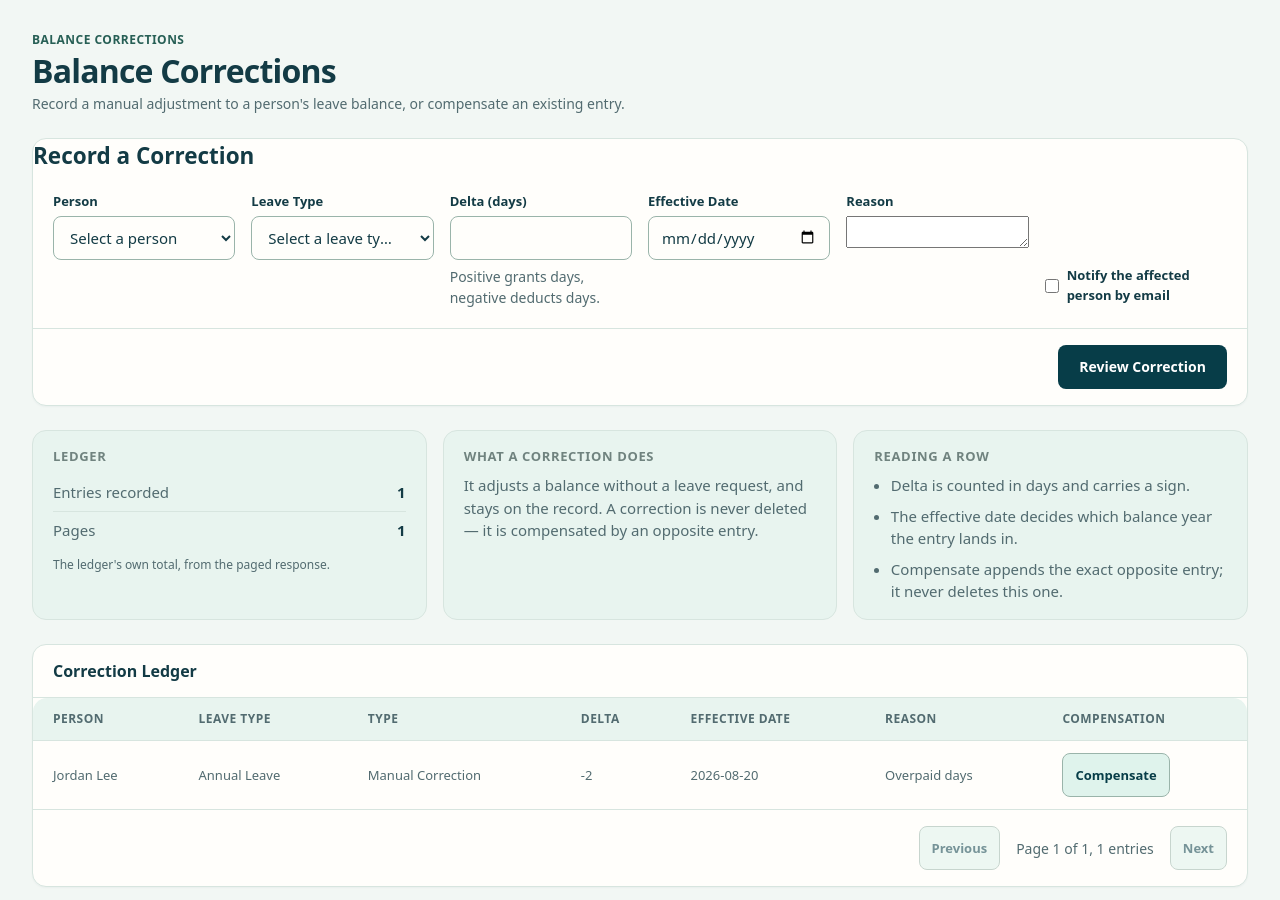
CorrectionsPage › shows the capability banner when compensation is capability-denied
Click the button with test id "correction-compensate-42" at (1116, 775), box [1062,753,1170,797]
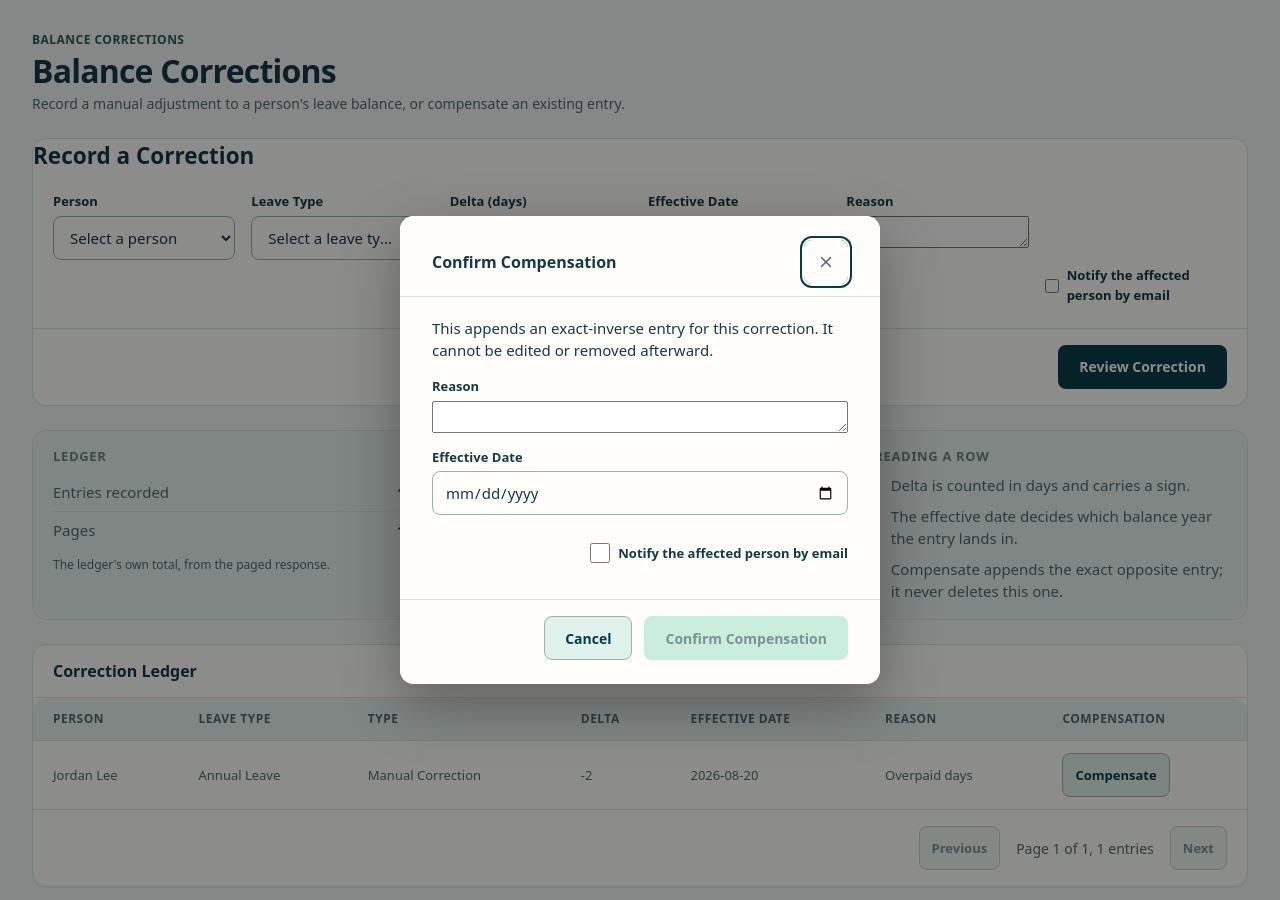
Type "Reversal" into the text box labelled "Reason" at (640, 416), box [432,400,848,432]
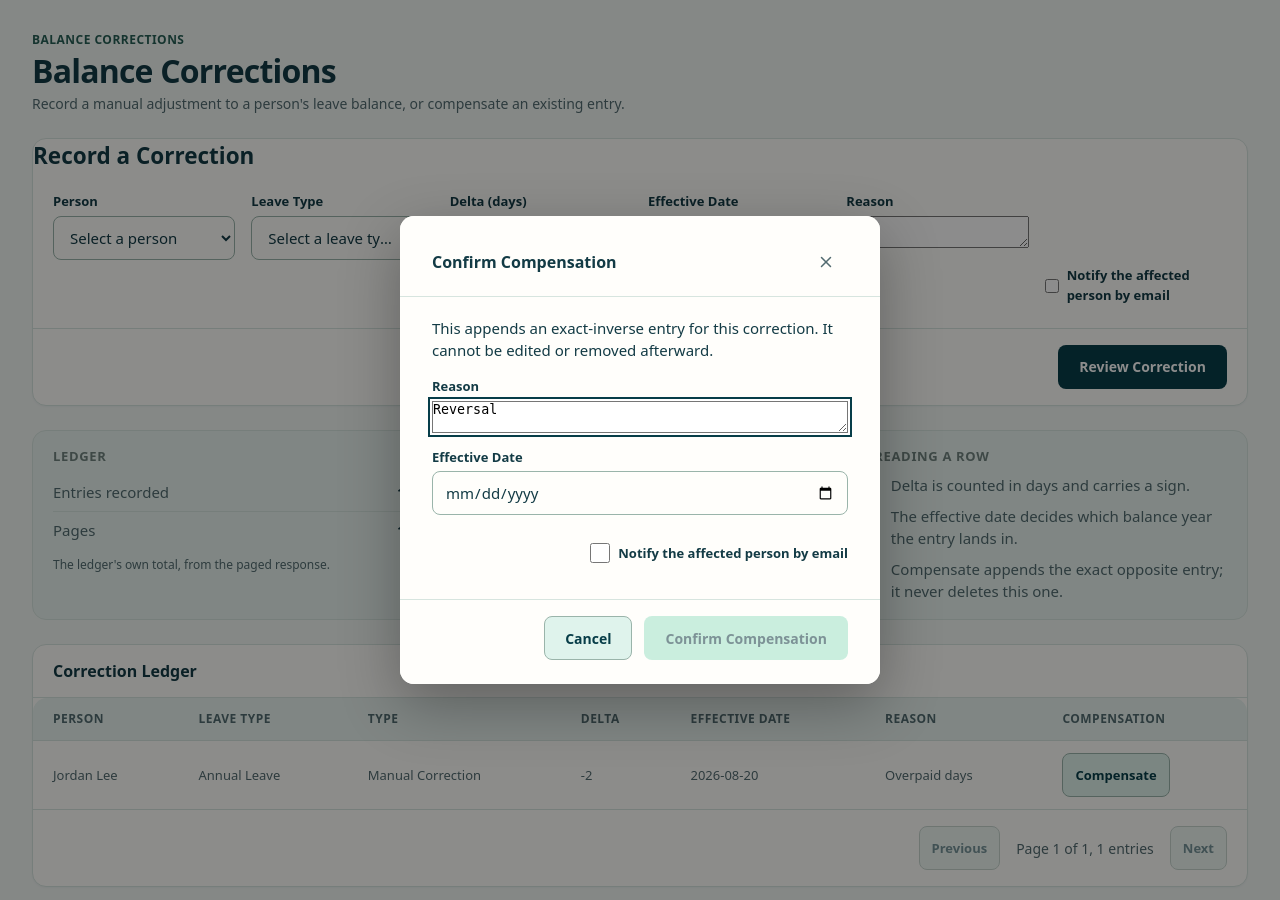
Type "2026-08-21" into the date field labelled "Effective Date" at (640, 493), box [432,471,848,515]
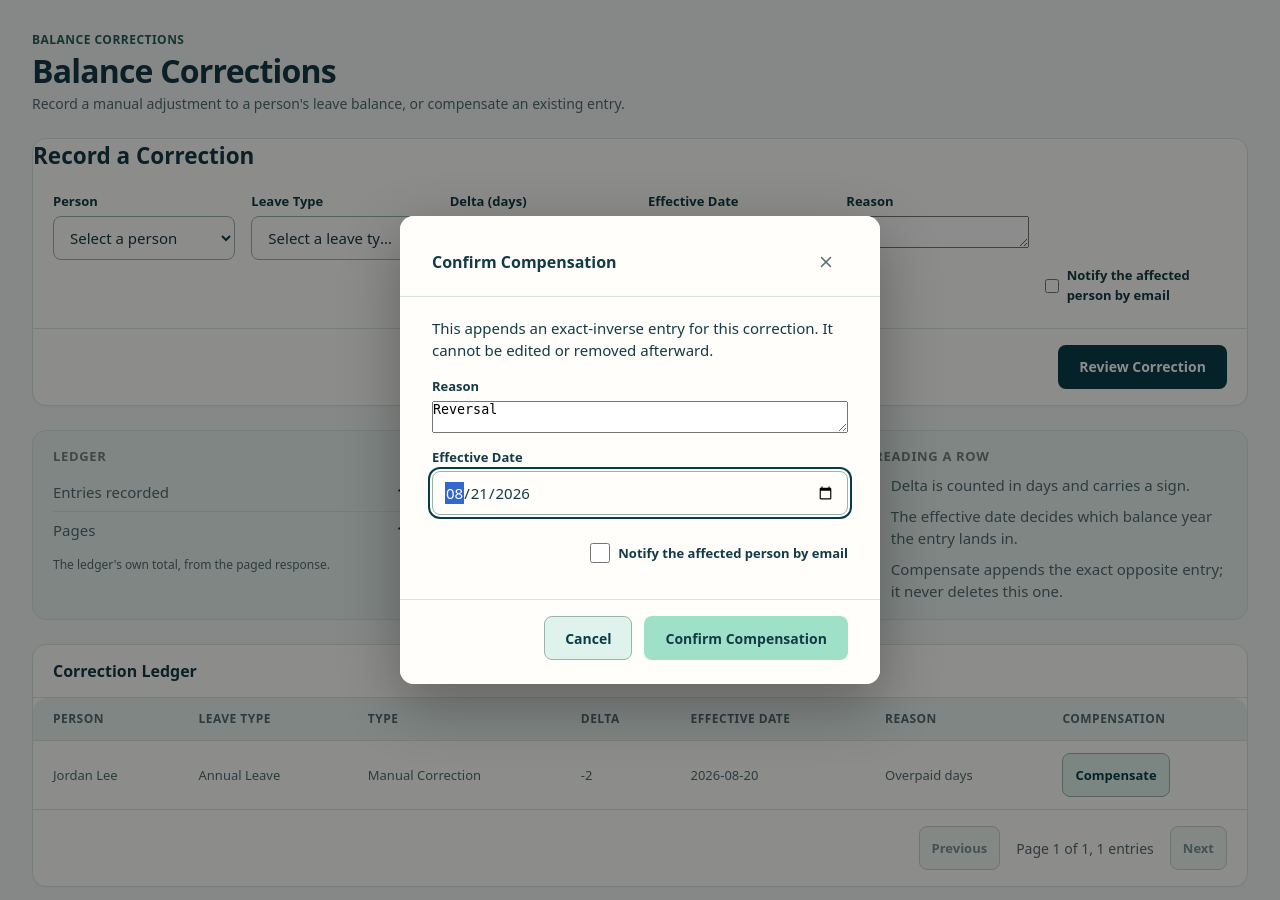
Click the button "Confirm Compensation" at (746, 638), box [644,616,848,660]
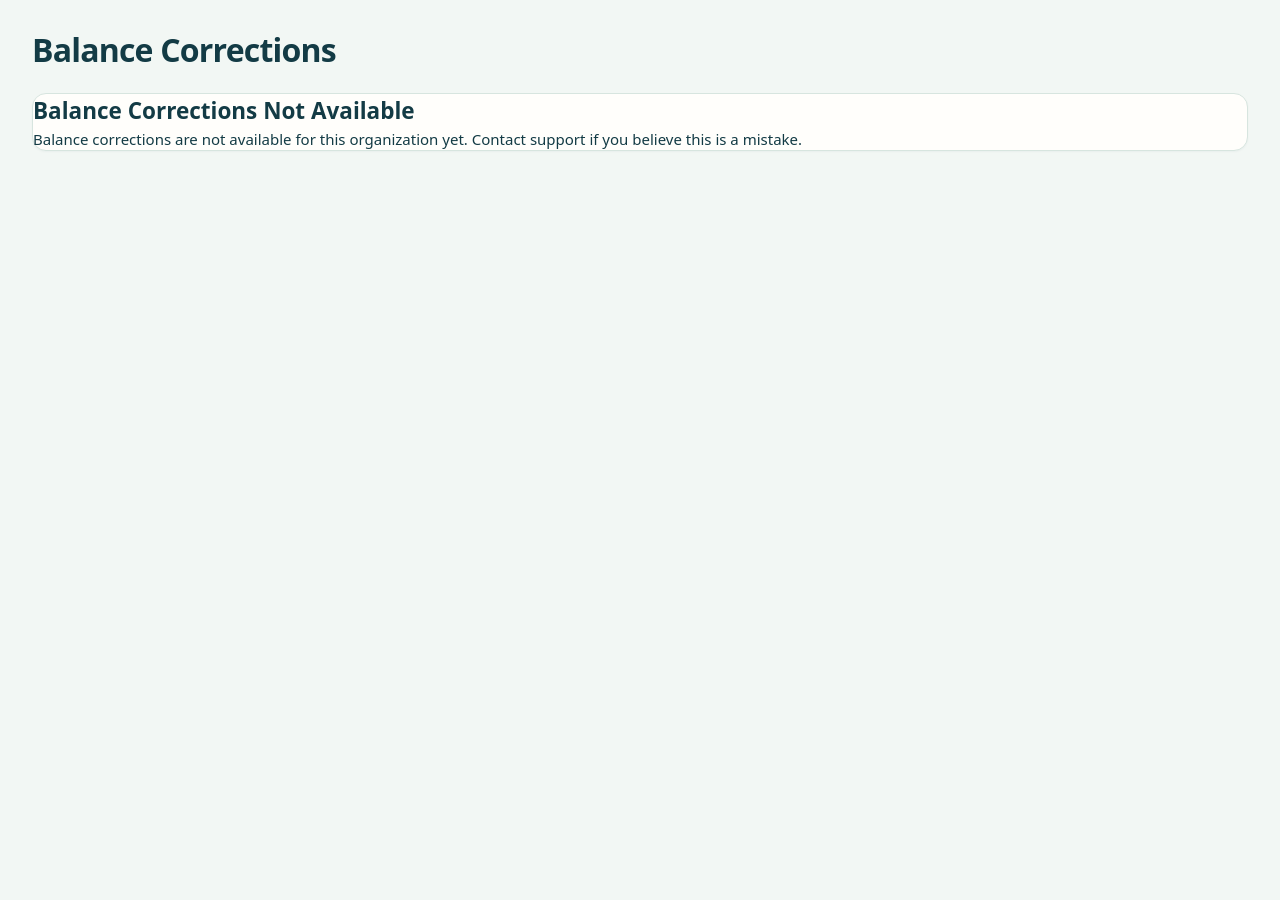
Expected: the message with test id "corrections-capability-unavailable" is shown, [32,93,1248,151]
